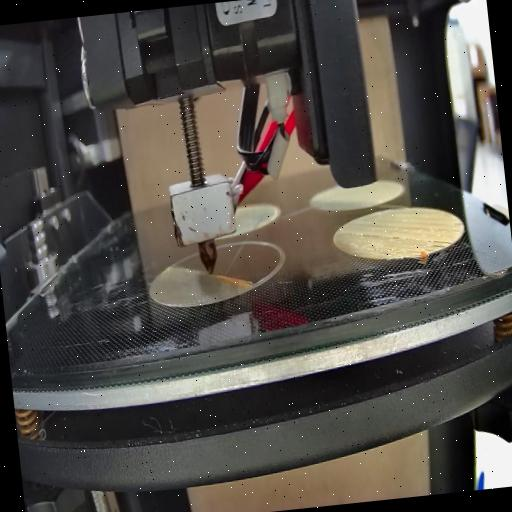under_extrusion: (348, 226, 402, 246), (423, 236, 451, 256), (450, 220, 464, 228)
